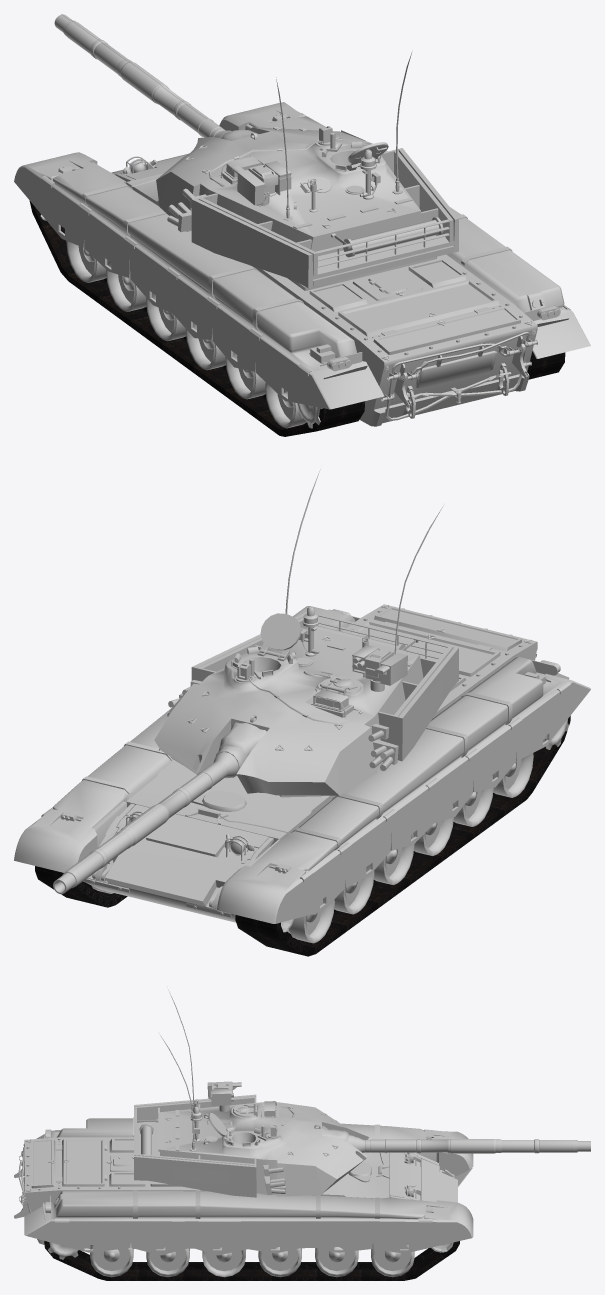
File: tank.FBX
3 views of the same model, one above another, from view 1: azimuth 30°, elevation 25°; view 2: azimuth 150°, elevation 25°; view 3: azimuth 270°, elevation 25° (orthographic). The views are drawn at different scales.
Visible parts, largest first — view 1: hull, turret, tread_left, cannon, wheel3, wheel2, wheel6, wheel4, wheel5, wheel7, tread_right; view 2: hull, turret, tread_left, cannon, hatch, tread_right, wheel2, wheel4, wheel3, wheel7, wheel6, wheel5; view 3: hull, turret, tread_right, cannon, wheel15, wheel11, wheel12, wheel10, wheel14, wheel13.
Part boxes in pixels (bbox=[...]): hull: bbox=[14, 102, 590, 426]; turret: bbox=[156, 52, 458, 288]; tread_left: bbox=[29, 201, 364, 436]; cannon: bbox=[54, 14, 258, 140]; wheel3: bbox=[106, 260, 146, 311]; wheel2: bbox=[66, 241, 106, 282]; wheel6: bbox=[225, 352, 265, 399]; wheel4: bbox=[146, 293, 186, 341]; wheel5: bbox=[185, 323, 225, 370]; wheel7: bbox=[265, 382, 306, 428]; tread_right: bbox=[527, 351, 565, 379]; hull: bbox=[14, 604, 590, 923]; turret: bbox=[154, 469, 458, 797]; tread_left: bbox=[235, 716, 570, 956]; cannon: bbox=[53, 722, 266, 894]; hatch: bbox=[260, 613, 301, 654]; tread_right: bbox=[35, 866, 127, 907]; wheel2: bbox=[287, 898, 334, 943]; wheel4: bbox=[374, 833, 414, 884]; wheel3: bbox=[334, 864, 374, 914]; wheel7: bbox=[492, 753, 533, 797]; wheel6: bbox=[452, 775, 493, 826]; wheel5: bbox=[413, 804, 453, 855]; hull: bbox=[14, 1117, 473, 1255]; turret: bbox=[134, 989, 369, 1197]; tread_right: bbox=[44, 1241, 459, 1280]; cannon: bbox=[322, 1125, 590, 1153]; wheel15: bbox=[90, 1243, 133, 1277]; wheel11: bbox=[315, 1245, 358, 1277]; wheel12: bbox=[258, 1245, 301, 1277]; wheel10: bbox=[371, 1243, 414, 1277]; wheel14: bbox=[146, 1245, 189, 1277]; wheel13: bbox=[202, 1245, 245, 1277].
Bounding box in the file's own units: 388 × 450 × 1044.
